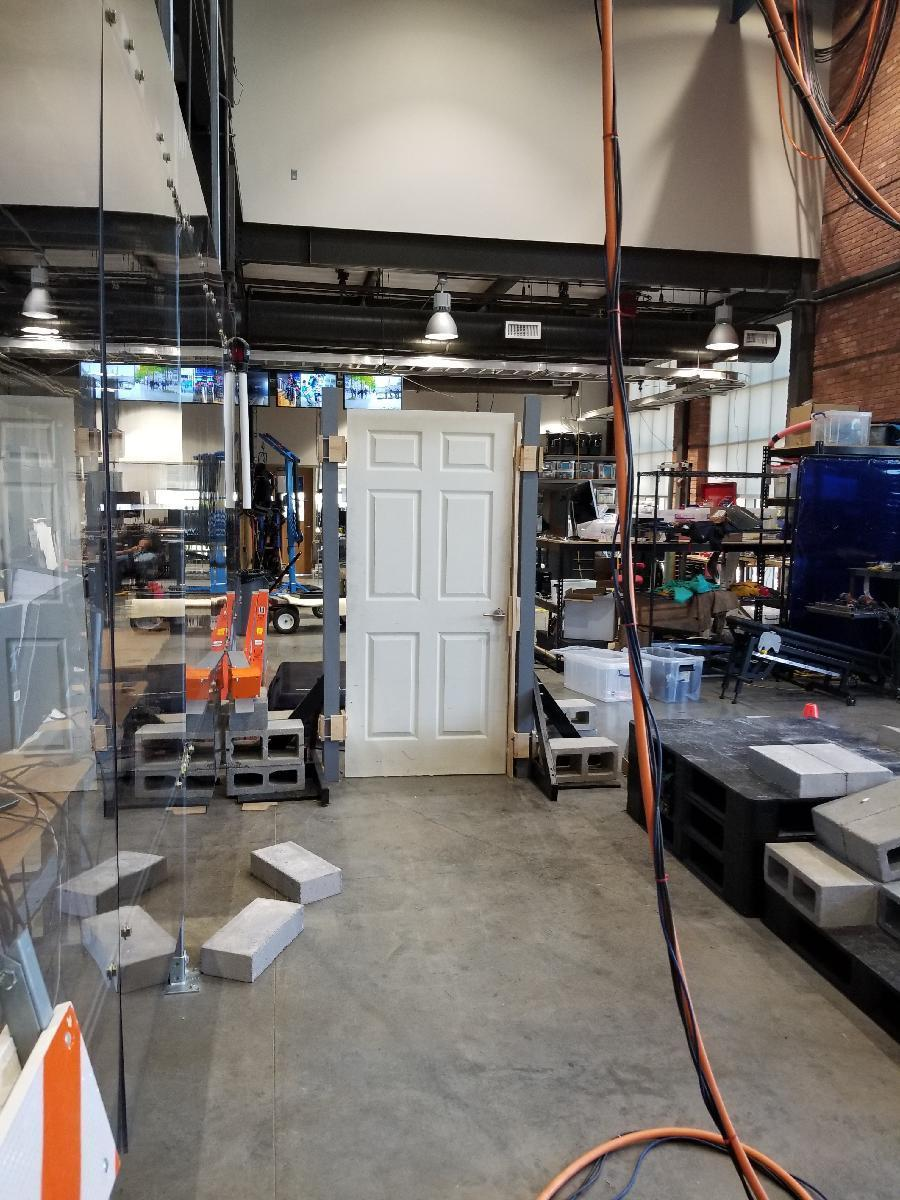door: (346, 408, 516, 773)
handle: (481, 607, 508, 623)
